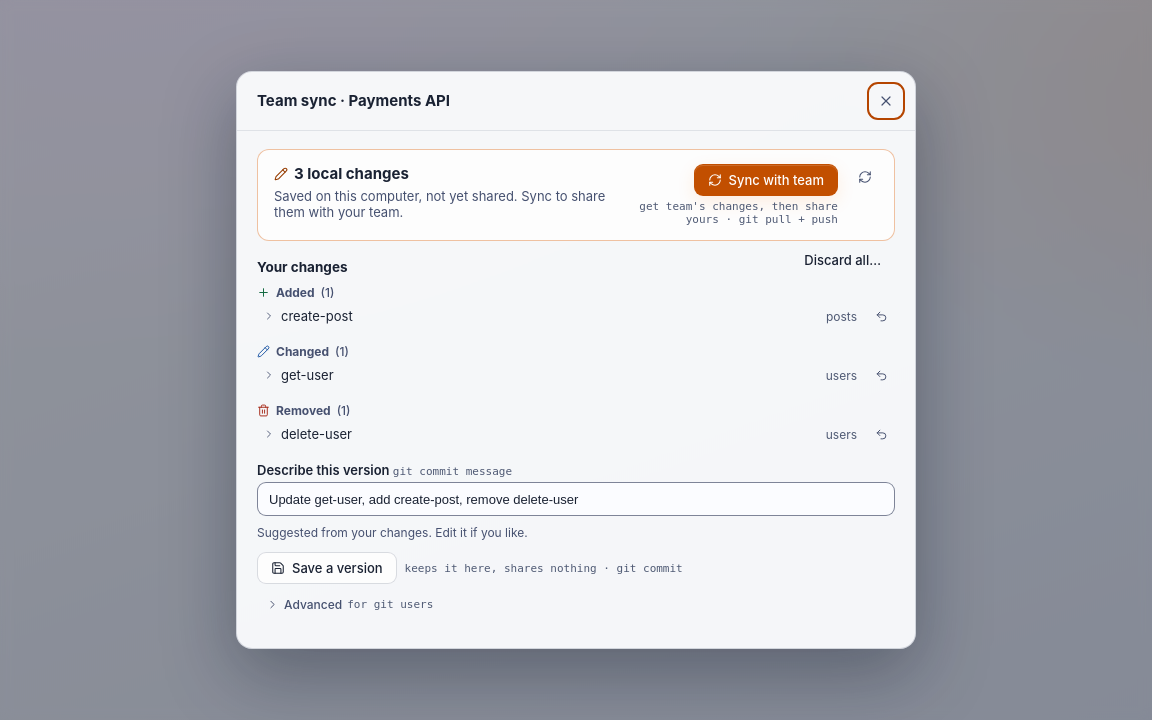
Scenario: Conflicts › shows both versions per request and resolves with the per-request choice
Click the button "Sync with team" at coordinates (766, 180), box [694,164,838,196]
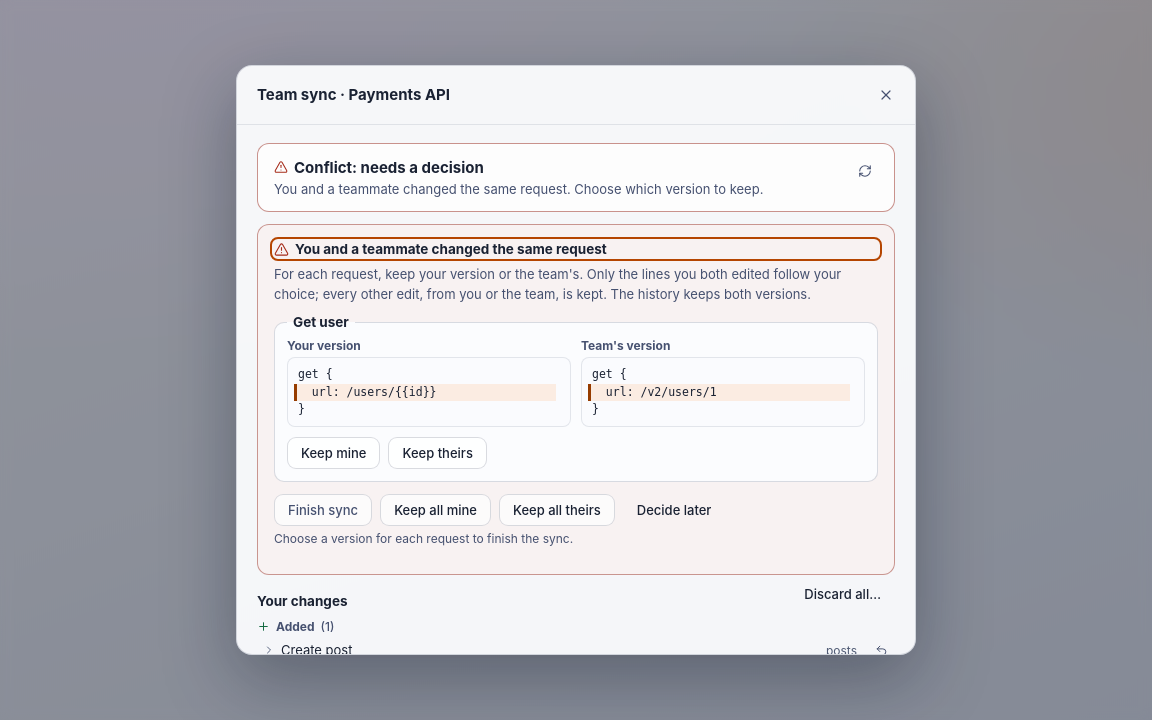
Now the text "Conflict: needs a decision" is shown, box [294,158,484,177]
Now the element named "Your version" shows "/users/{{id}}", box [298,384,436,398]
Now the element named "Team's version" shows "/v2/users/1", box [592,384,717,398]
Click the button "Keep mine" at coordinates (334, 453), box [287,437,380,469]
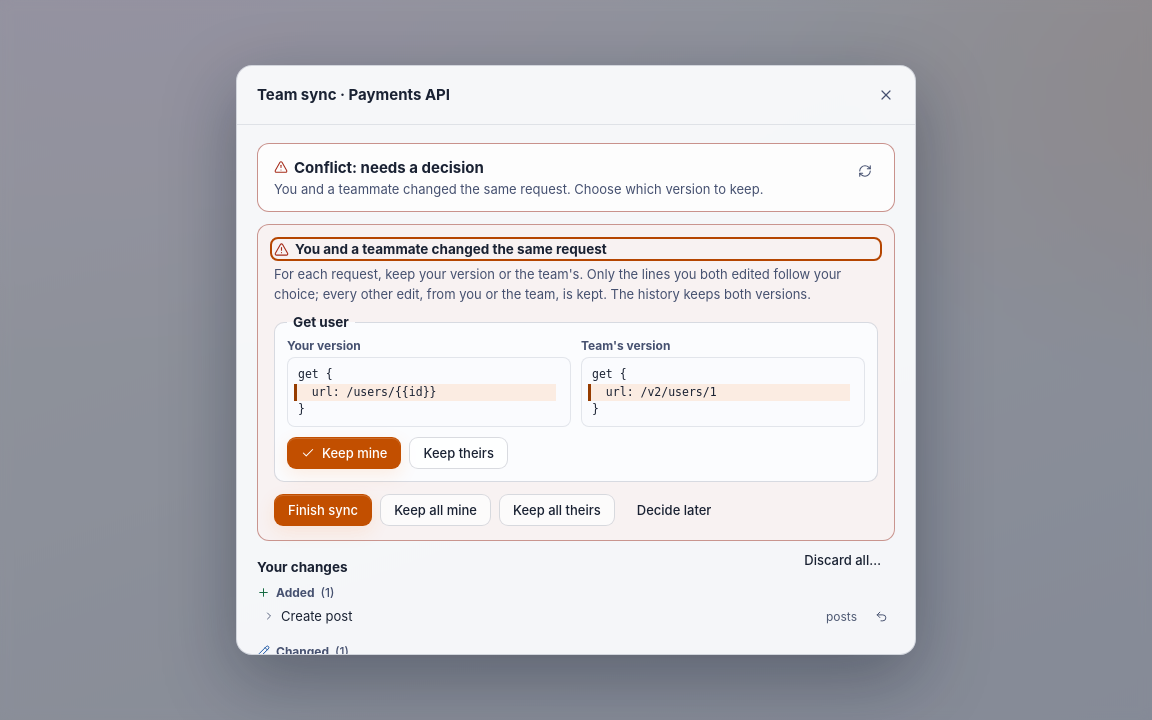
Now the button "Keep mine" is pressed, box [287,437,402,469]
Click the button "Finish sync" at coordinates (323, 510), box [274,494,372,526]
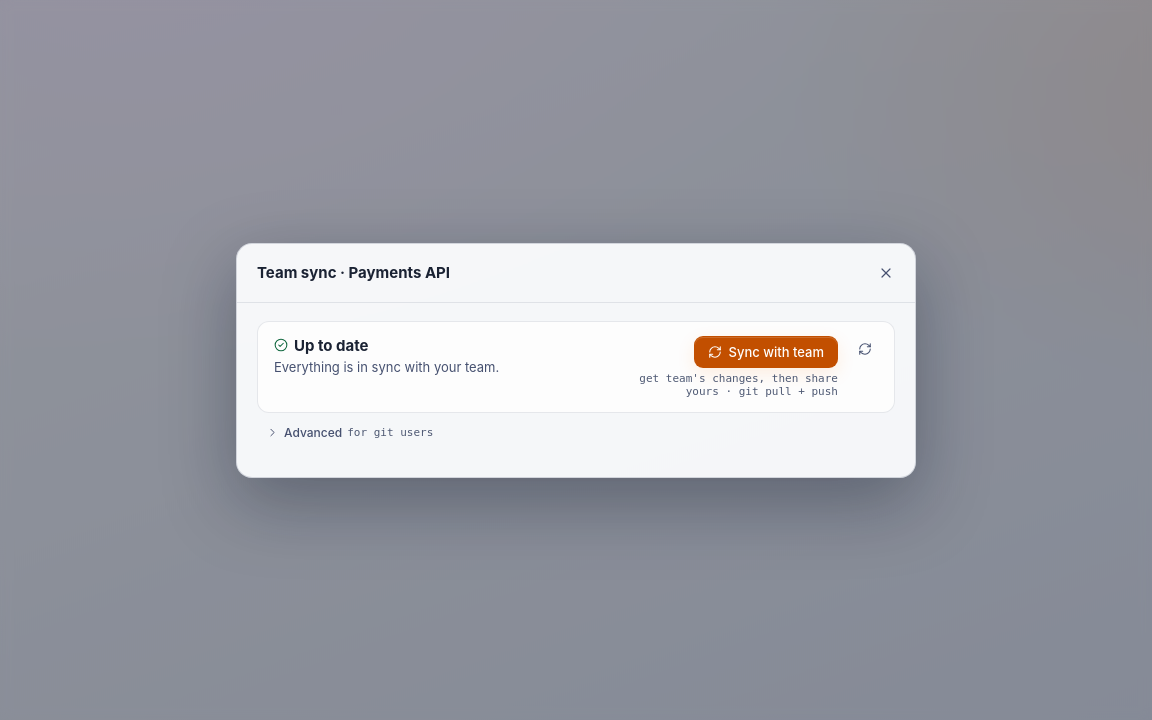
Now the text "Up to date" is shown, box [294,336,368,354]
